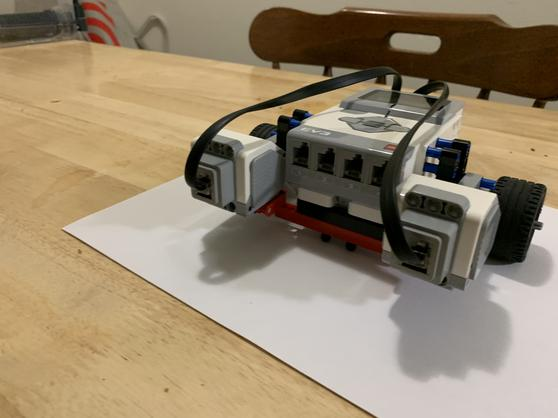robot: (176, 65, 558, 298)
